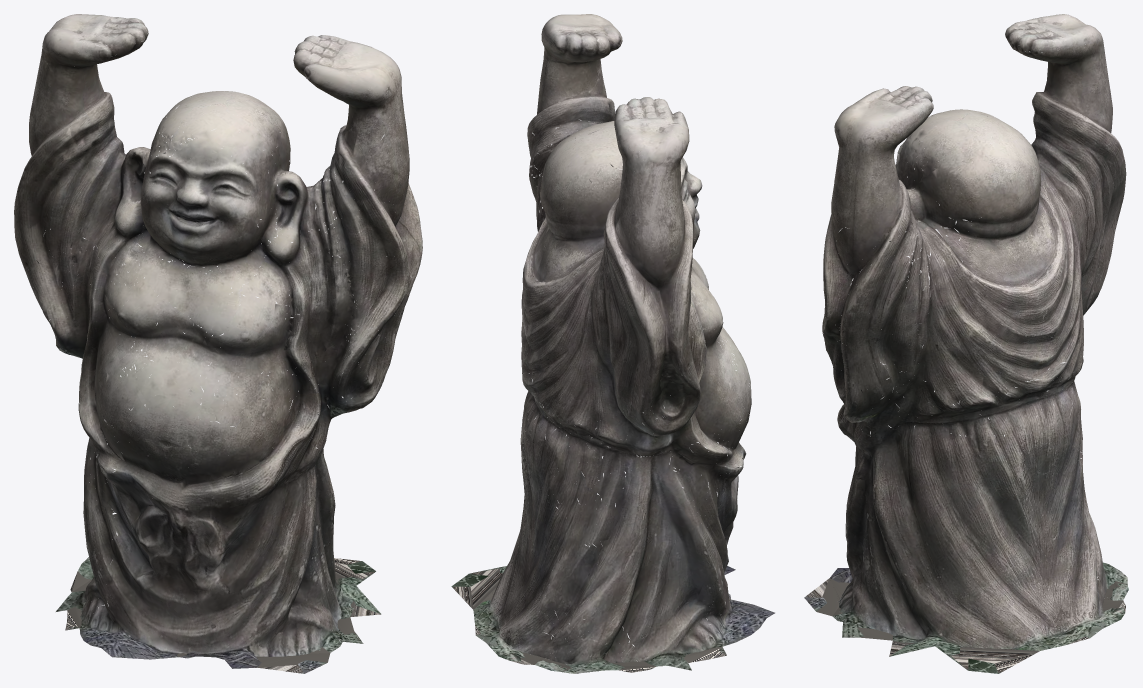
The model's file is dilac.glb.
3 views of the same model, side by side, from view 1: azimuth 30°, elevation 25°; view 2: azimuth 150°, elevation 25°; view 3: azimuth 270°, elevation 25° (orthographic). The views are drawn at different scales.
Visible parts, largest first — view 1: Object_4, Object_5, Object_6, Object_7; view 2: Object_6, Object_4, Object_5, Object_7; view 3: Object_4, Object_6, Object_5, Object_7.
Boxes of the visible parts, left/top/right/bottom form: Object_4: left=56, top=91, right=391, bottom=673; Object_5: left=33, top=14, right=422, bottom=444; Object_6: left=14, top=16, right=422, bottom=514; Object_7: left=80, top=160, right=329, bottom=628; Object_6: left=521, top=14, right=750, bottom=669; Object_4: left=451, top=127, right=774, bottom=673; Object_5: left=527, top=97, right=750, bottom=508; Object_7: left=531, top=133, right=743, bottom=661; Object_4: left=804, top=109, right=1128, bottom=673; Object_6: left=823, top=14, right=1126, bottom=601; Object_5: left=822, top=14, right=1102, bottom=438; Object_7: left=905, top=198, right=1090, bottom=515.
Size of the model in its own units: 6.41 by 11.86 by 6.42.
Materials: 1 (1 with a texture image).
